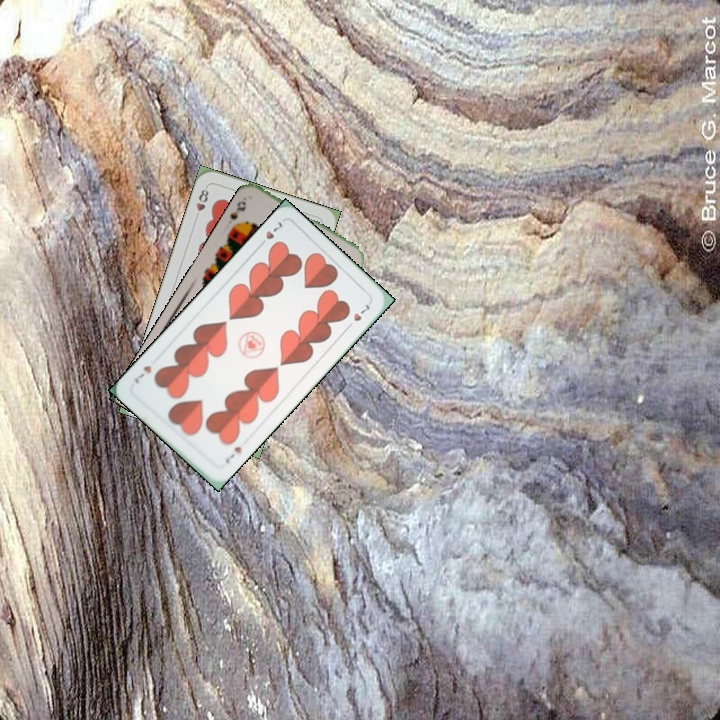H7: (254, 217, 285, 250), (221, 442, 244, 466)
H8: (191, 183, 211, 222)
S9: (226, 196, 249, 233)
